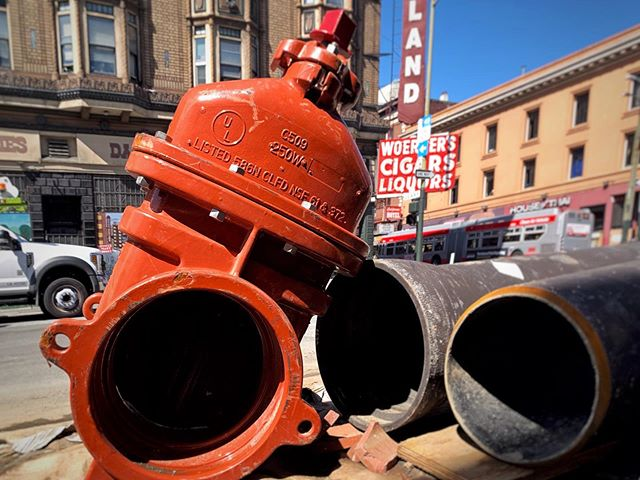building: (1, 1, 375, 266), (405, 45, 640, 263)
sign: (377, 131, 460, 192), (396, 1, 432, 121)
